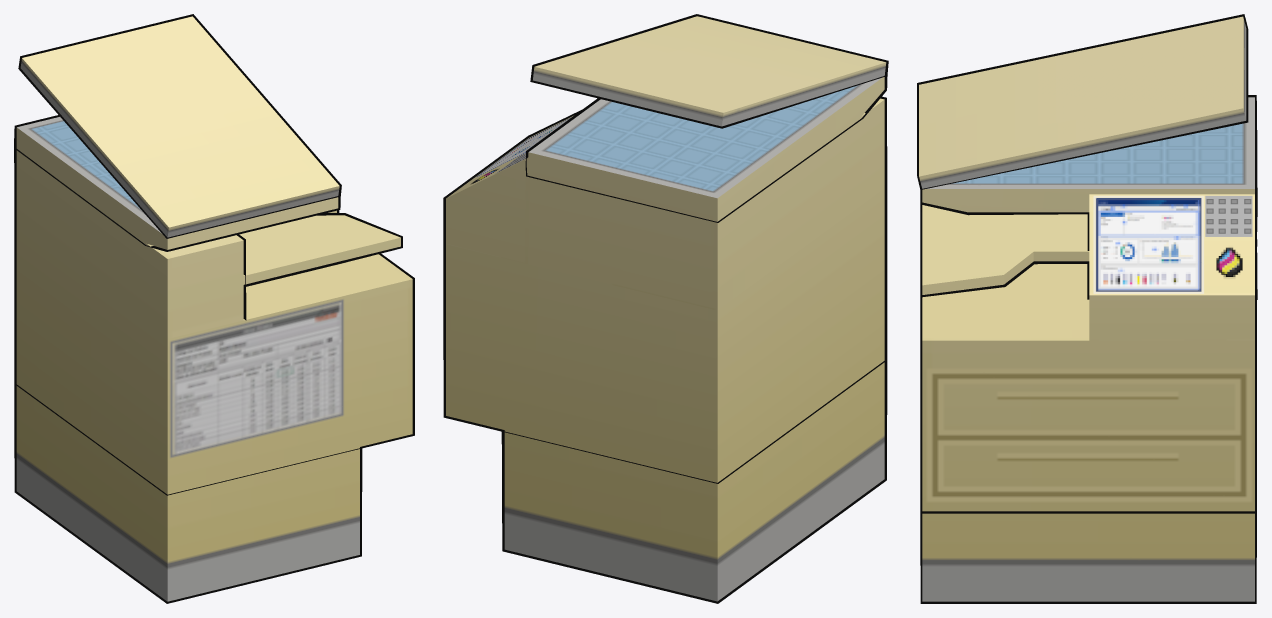
The model's file is Impressora.glb.
3 views of the same model, side by side, from view 1: azimuth 30°, elevation 25°; view 2: azimuth 150°, elevation 25°; view 3: azimuth 270°, elevation 25° (orthographic). The views are drawn at different scales.
Parts seen in each view (by area): view 1: Impressora_001; view 2: Impressora_001; view 3: Impressora_001.
Part boxes in pixels (<box>): Impressora_001: <box>14,14,414,603</box>; Impressora_001: <box>443,14,888,603</box>; Impressora_001: <box>917,14,1257,603</box>.
Bounding box in the file's own units: 0.8861 × 1.5 × 0.9527.
2 materials, 1 textured.
